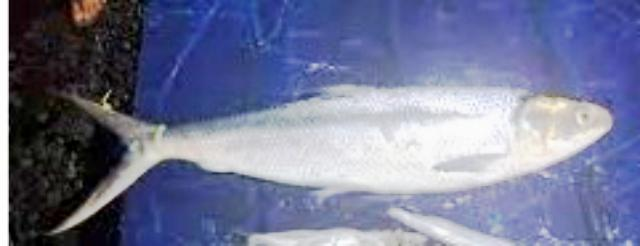Healthy Fish: (48, 88, 613, 236)
